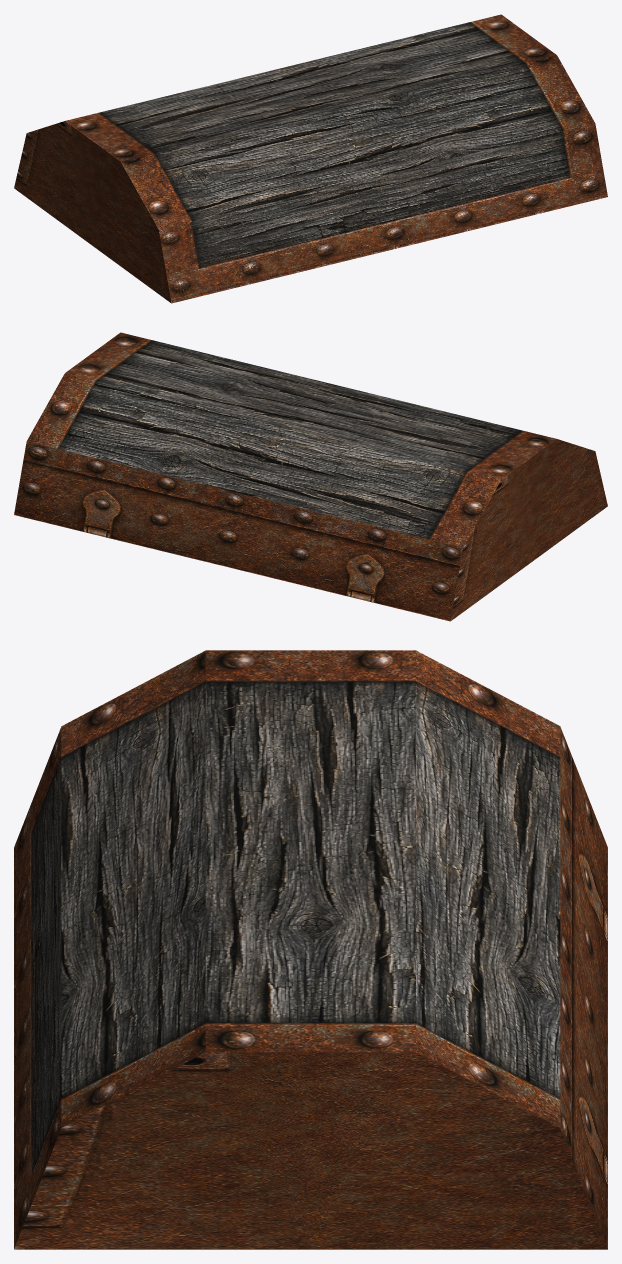
The model's file is mm9_deco_chestrusty01_lid01.glb.
3 views of the same model, one above another, from view 1: azimuth 30°, elevation 25°; view 2: azimuth 150°, elevation 25°; view 3: azimuth 270°, elevation 25° (orthographic). The views are drawn at different scales.
Parts seen in each view (by area): view 1: Chestrusty01; view 2: Chestrusty01; view 3: Chestrusty01.
Part boxes in pixels (box(x1,y1,x2,y2)): Chestrusty01: box(14, 14, 607, 303); Chestrusty01: box(14, 332, 607, 621); Chestrusty01: box(14, 650, 607, 1249).
Bounding box in the file's own units: 1 × 0.2295 × 0.626.
Materials: 1 (1 with a texture image).
